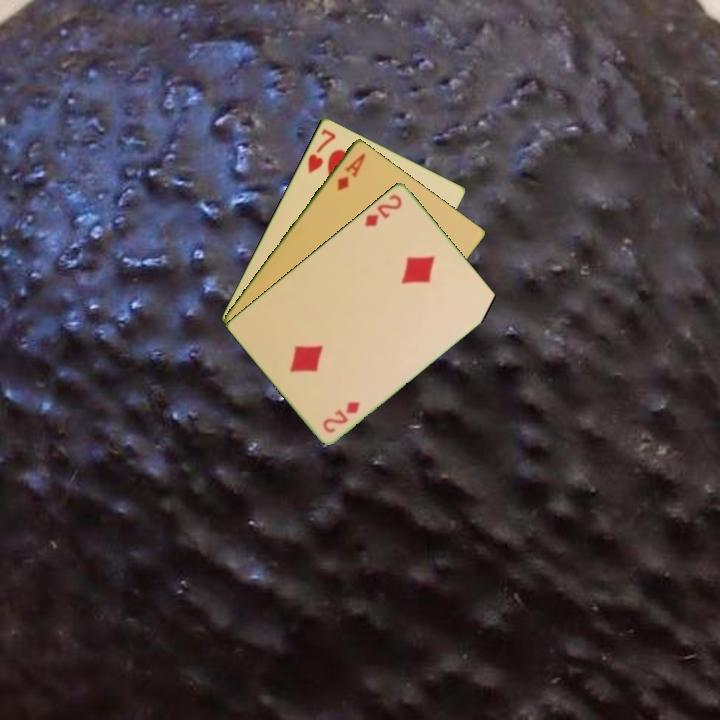2d: (361, 191, 405, 230), (319, 397, 363, 436)
7h: (304, 125, 339, 176)
Ad: (333, 149, 369, 193)
